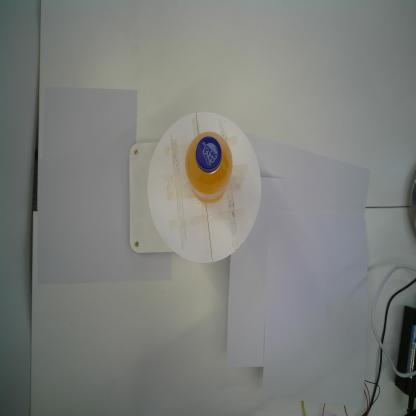Drink: (184, 129, 235, 207)
